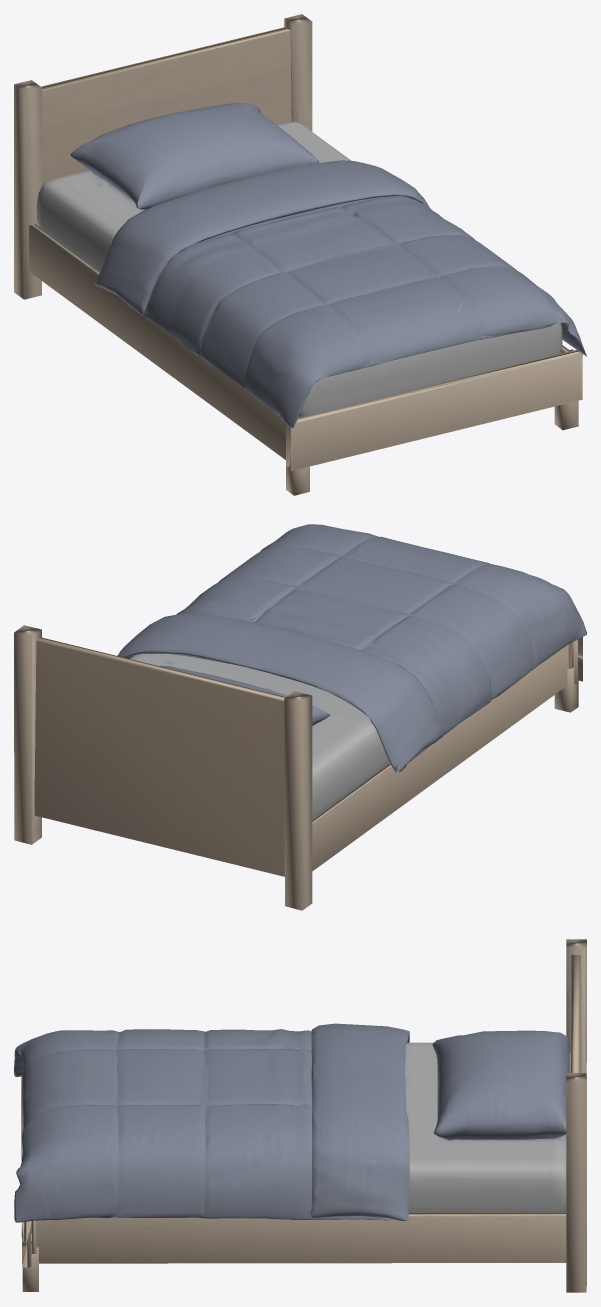
The model's file is bed.glb.
The picture shows the model from 3 angles, top to bottom: view 1: azimuth 30°, elevation 25°; view 2: azimuth 150°, elevation 25°; view 3: azimuth 270°, elevation 25°; orthographic projection.
Bounding box in the file's own units: 0.6025 × 0.3882 × 0.9546.
Materials: 1 (1 with a texture image).
